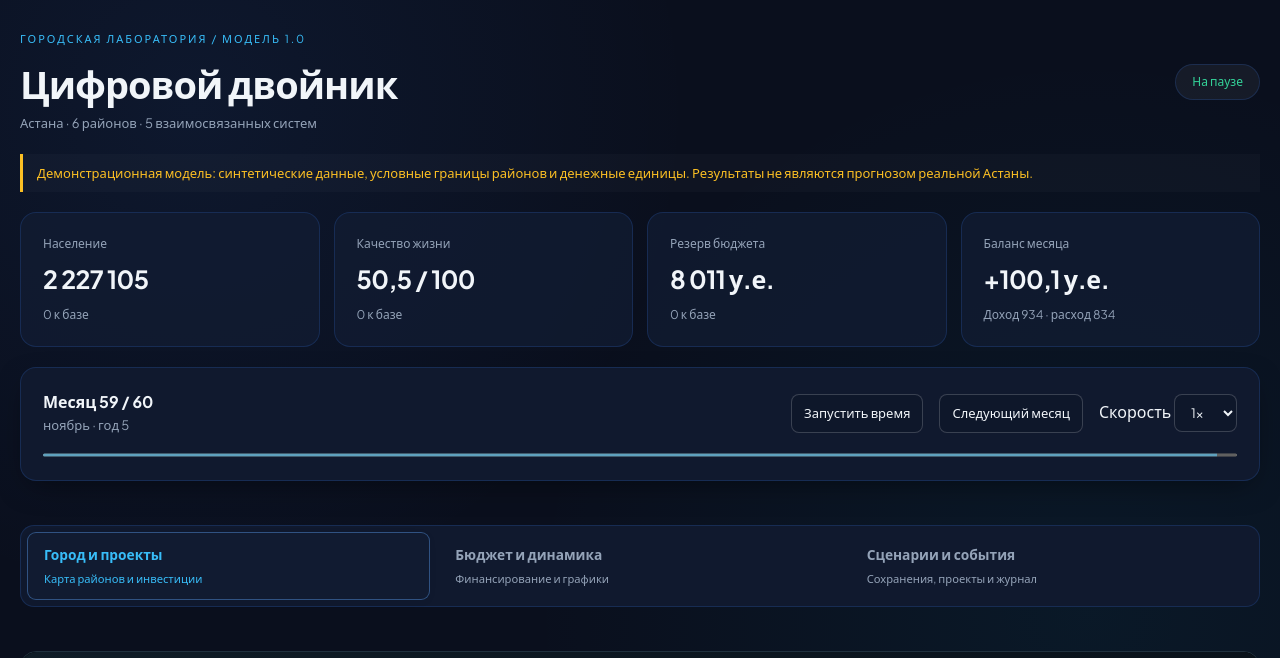
Test: stops automatically at month 60, shows results and disallows further actions
Click the button "Запустить время" at x=857, y=413, box [791, 394, 923, 433]
Wait 7400 ms
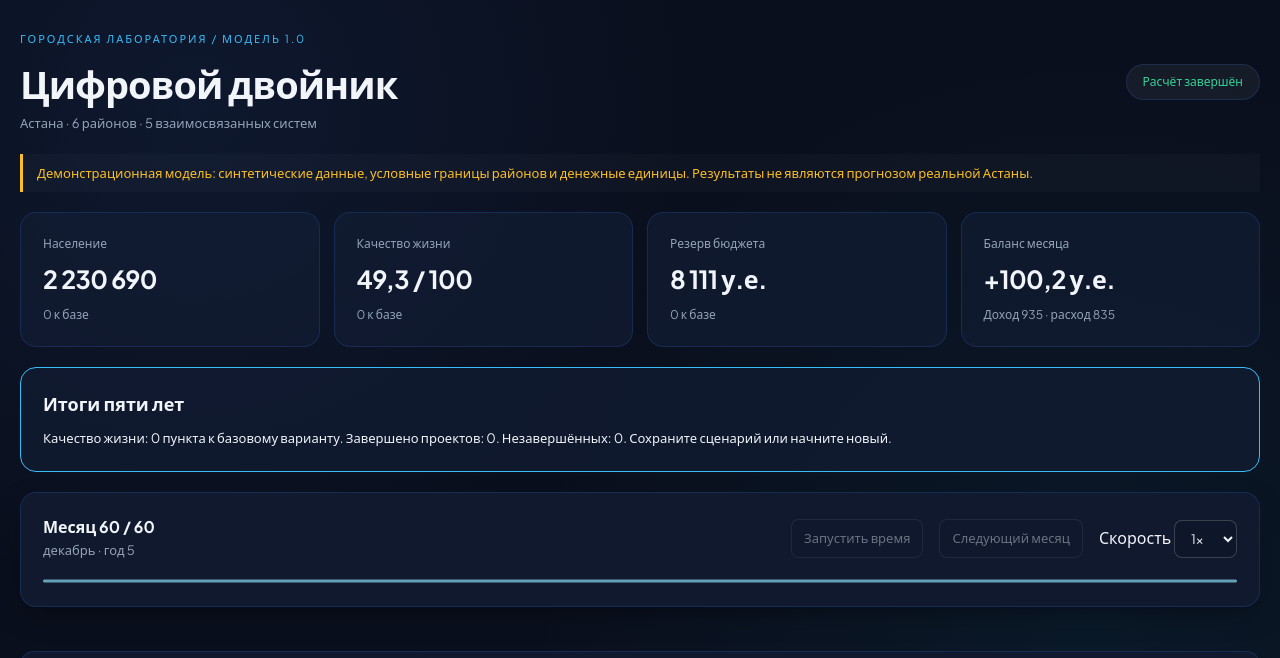
Expected: the heading "Итоги пяти лет" is shown, [43, 392, 184, 415]
Expected: the button "Следующий месяц" is disabled, [939, 519, 1083, 558]
Expected: the text with test id "twin-month" shows "60 / 60", [43, 516, 155, 538]
